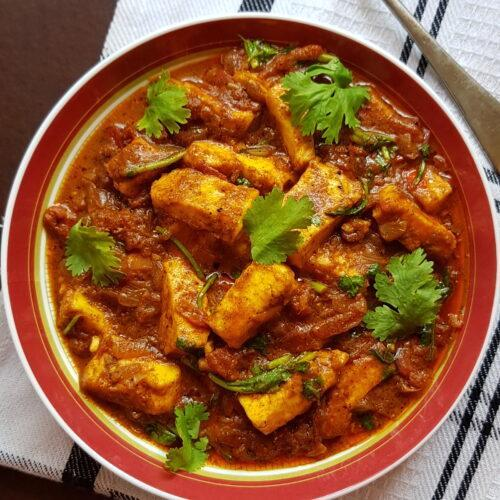paneer: (102, 111, 381, 384)
